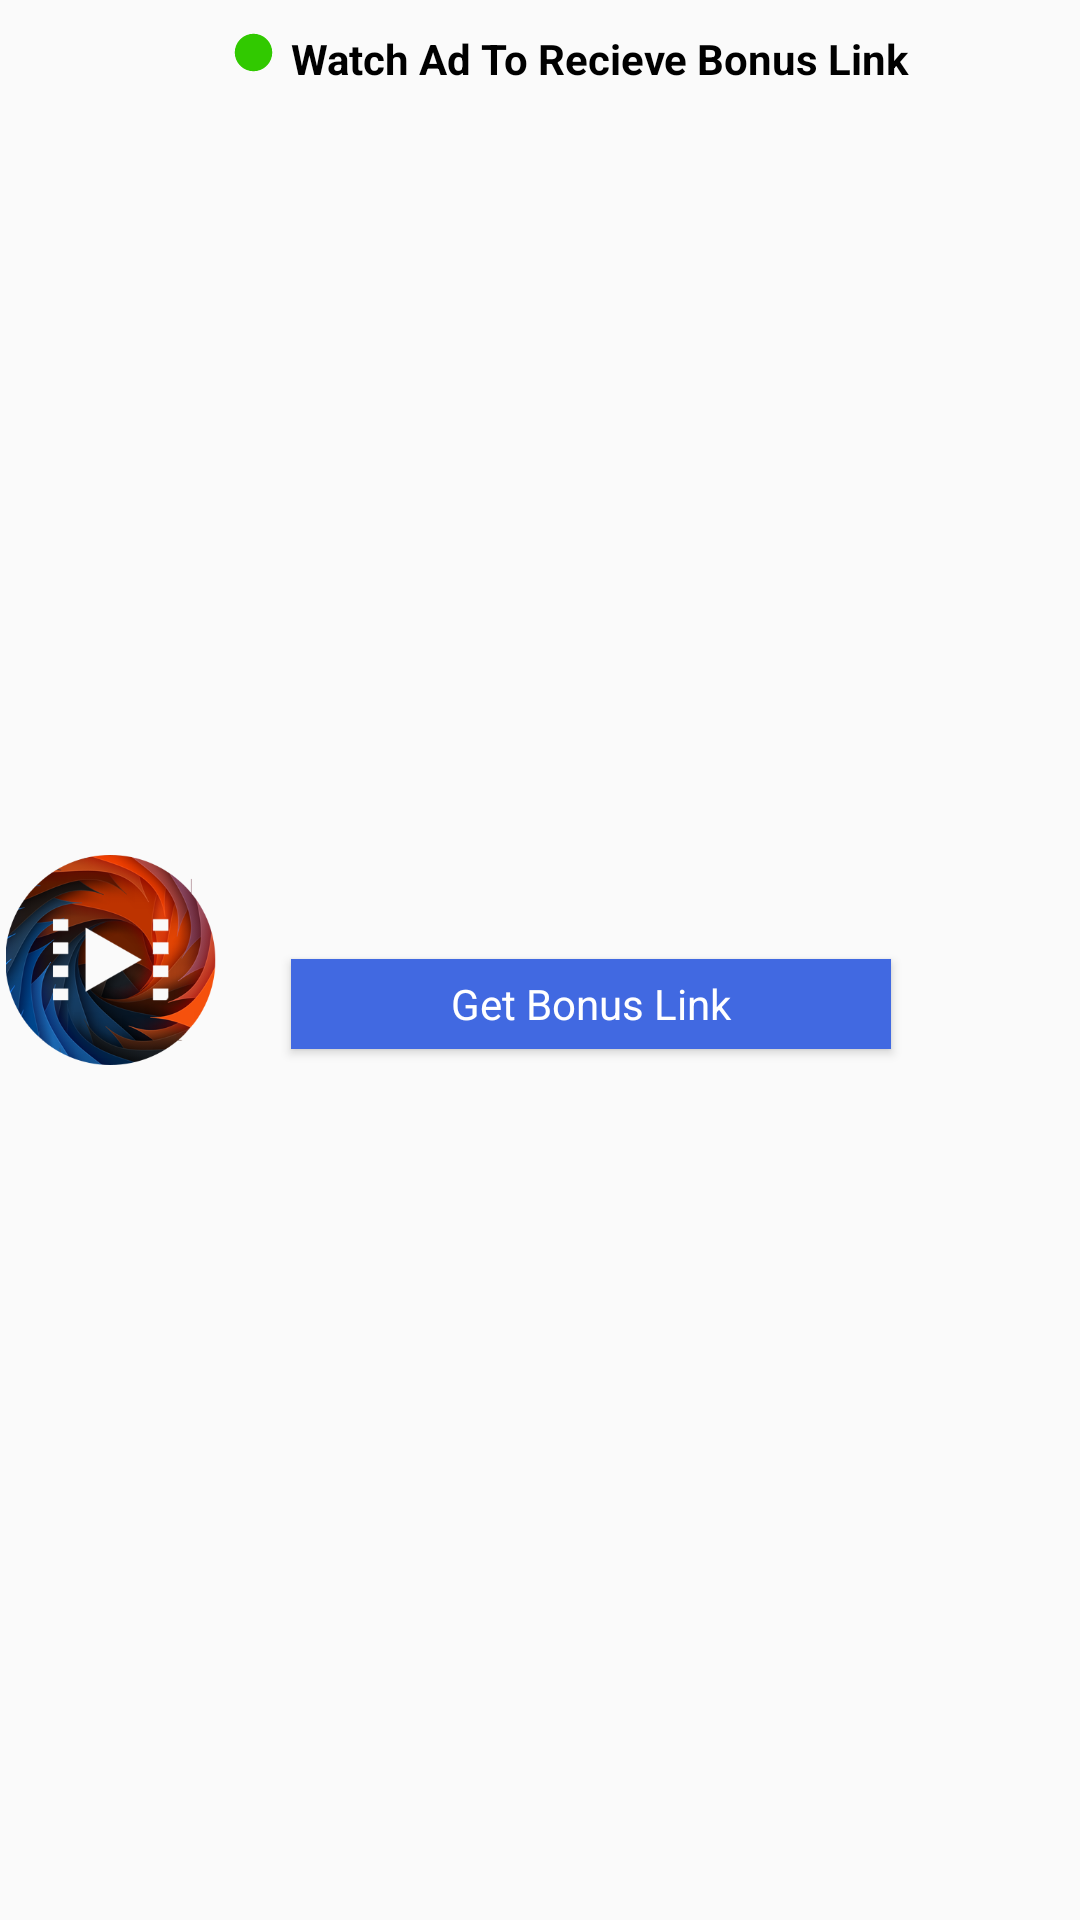

Point at icon controls on the screen. Image size 1080px×1920px, points as point (x, y).
reward ad: point (111, 960)
